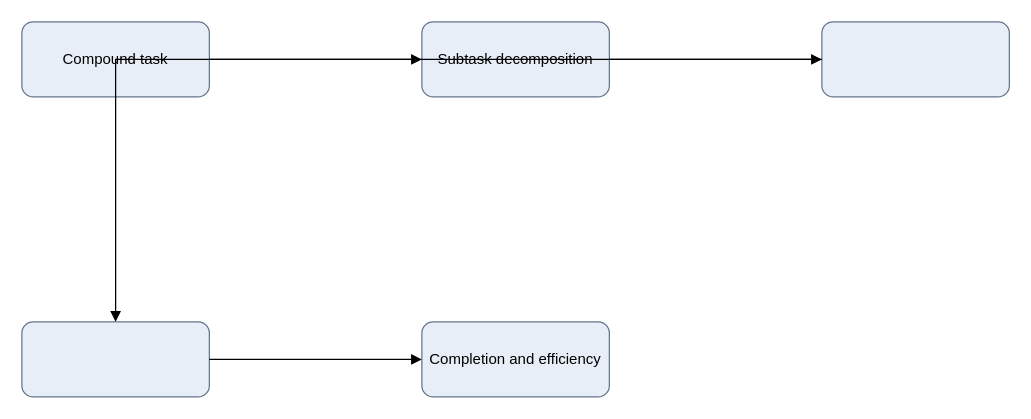
The diagram is 1031 pixels wide and 419 high, and some of its shapes have lost their labels. Each missing label, with the box of its shape:
Parallel or sequential execution: (21, 321, 209, 397)
Tool scheduling: (821, 21, 1009, 97)
